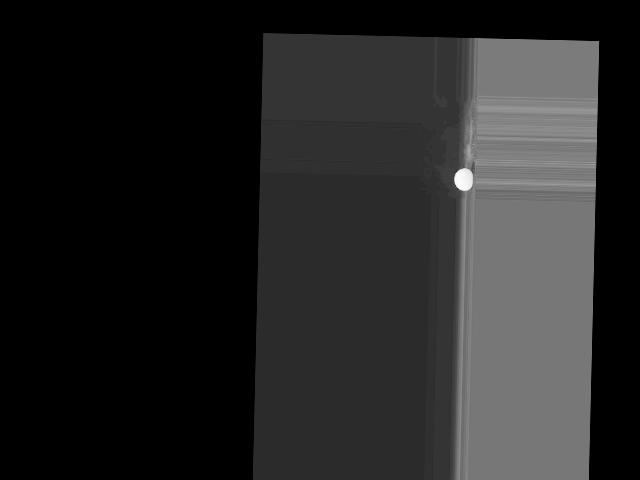egg: (454, 167, 473, 190)
